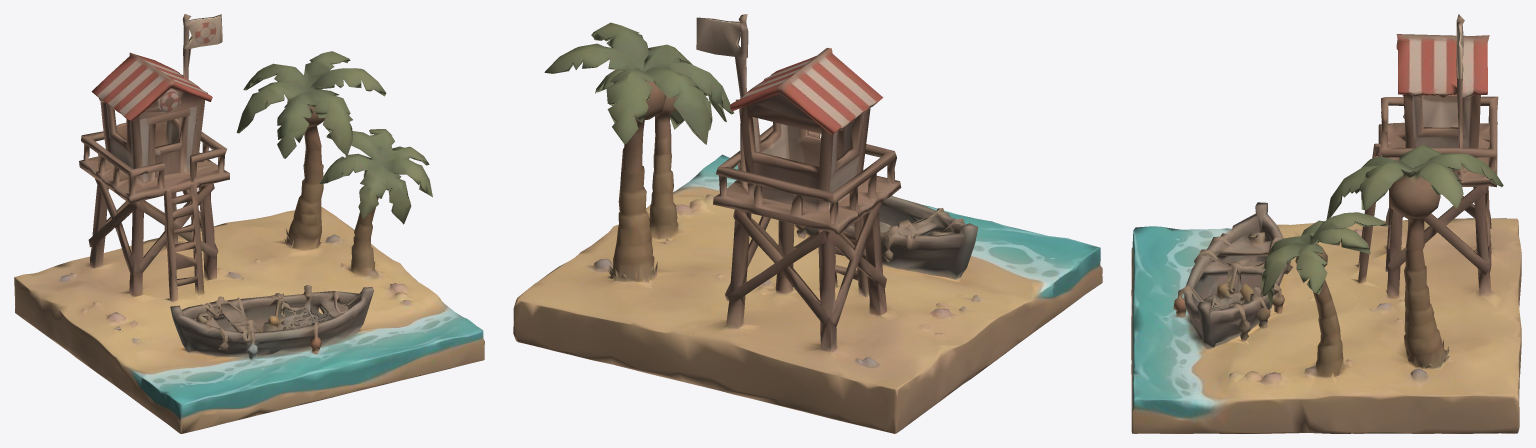
The model's file is beach_main.glb.
3 renders of one model, left to right at view 1: azimuth 30°, elevation 25°; view 2: azimuth 150°, elevation 25°; view 3: azimuth 270°, elevation 25°, orthographic. The views are drawn at different scales.
Parts seen in each view (by area): view 1: tripo_node_edf080ed-cfe1-4844-979d-313b190ff1e0; view 2: tripo_node_edf080ed-cfe1-4844-979d-313b190ff1e0; view 3: tripo_node_edf080ed-cfe1-4844-979d-313b190ff1e0.
Boxes of the visible parts, x1,y1,x2,y2 form: tripo_node_edf080ed-cfe1-4844-979d-313b190ff1e0: [14, 14, 484, 433]; tripo_node_edf080ed-cfe1-4844-979d-313b190ff1e0: [513, 14, 1102, 433]; tripo_node_edf080ed-cfe1-4844-979d-313b190ff1e0: [1131, 14, 1521, 433].
Size of the model in its own units: 1 by 0.8208 by 0.8809.
Materials: 1 (1 with a texture image).
